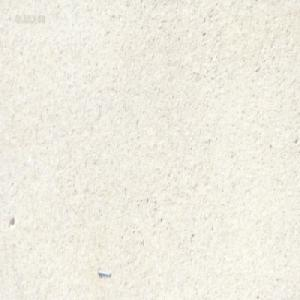Nail: (96, 267, 111, 276)
